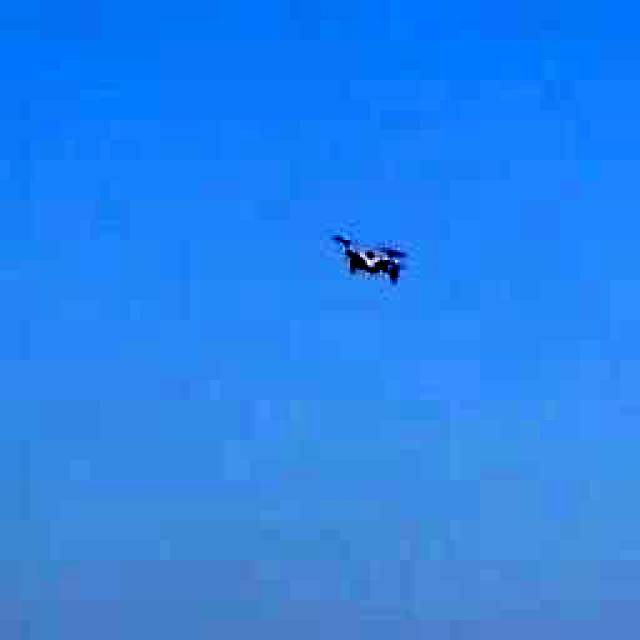bird: (308, 195, 428, 318)
